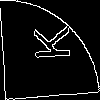K: (25, 24, 70, 62)
